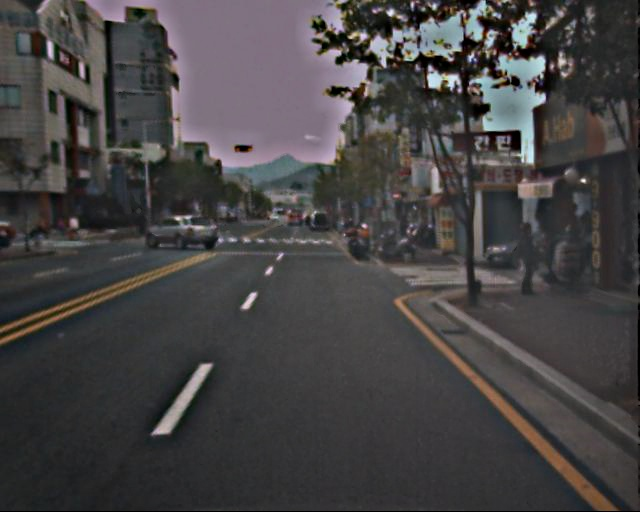person: (511, 221, 545, 298)
